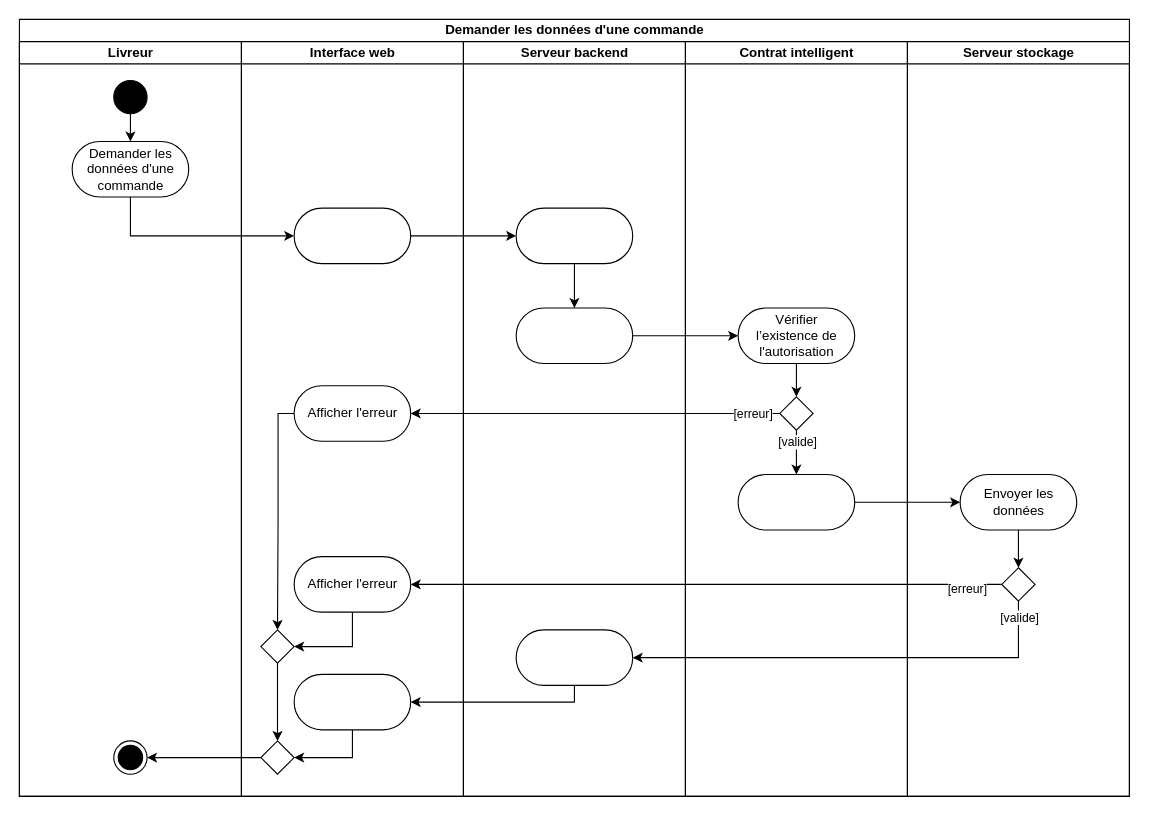
The diagram is 1149 pixels wide and 816 high, and some of its shapes have lost their labels. The shapes that lost their labels are listed below. From the top down, each one's centre as x and y in pixels, then its label:
At point 352,235: "Envoyer la requête".
At point 574,235: "Enregistrer l'id de la commande / session livreur".
At point 574,335: "Transmettre la requête".
At point 796,501: "Demander l'envoi des données".
At point 574,657: "Enregistrer les données sur la session livreur".
At point 352,701: "Afficher les données".
